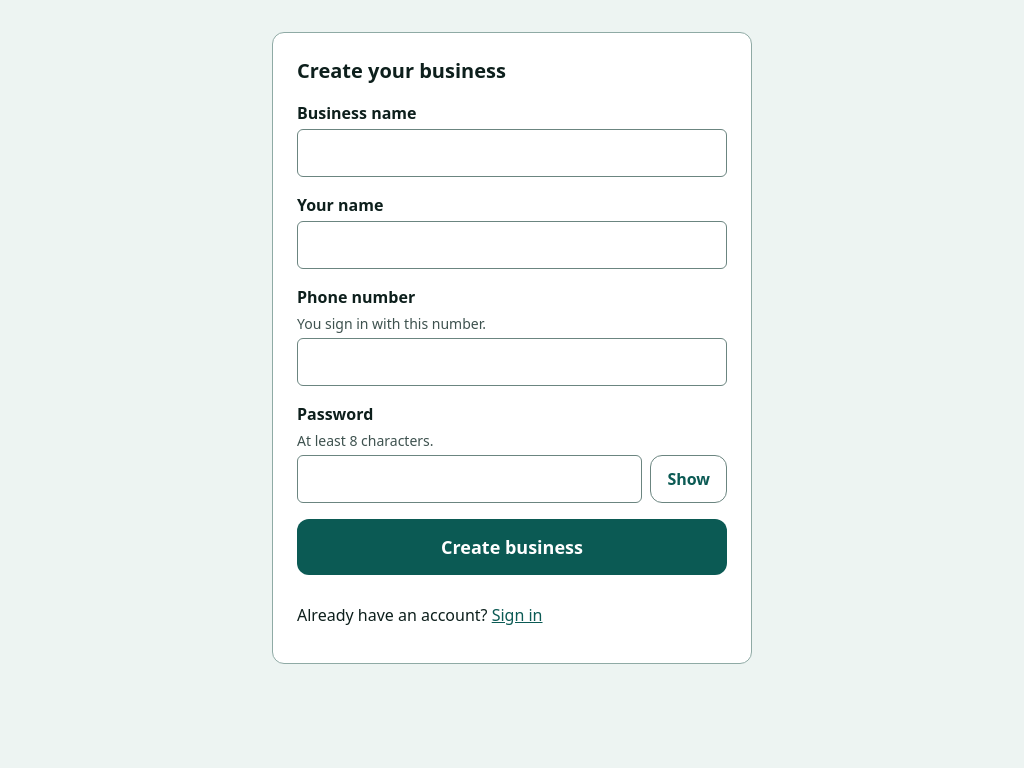
SignUpPage (M1, US1.1) › shows the button as busy while saving, sends one request, then opens the Setup home
Check: the heading "Create your business" is shown, box [297, 57, 506, 84]
Type "Haque Traders" into the field labelled "Business name" at (512, 153), box [297, 129, 727, 177]
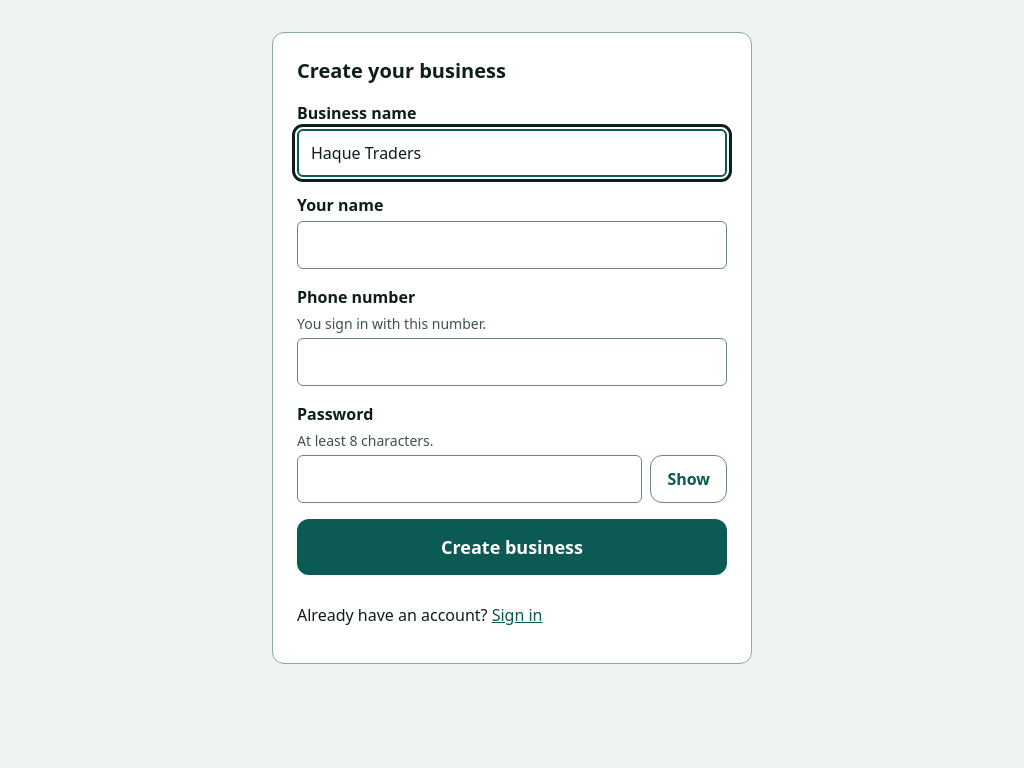
Type "Abdul Haque" into the field labelled "Your name" at (512, 245), box [297, 221, 727, 269]
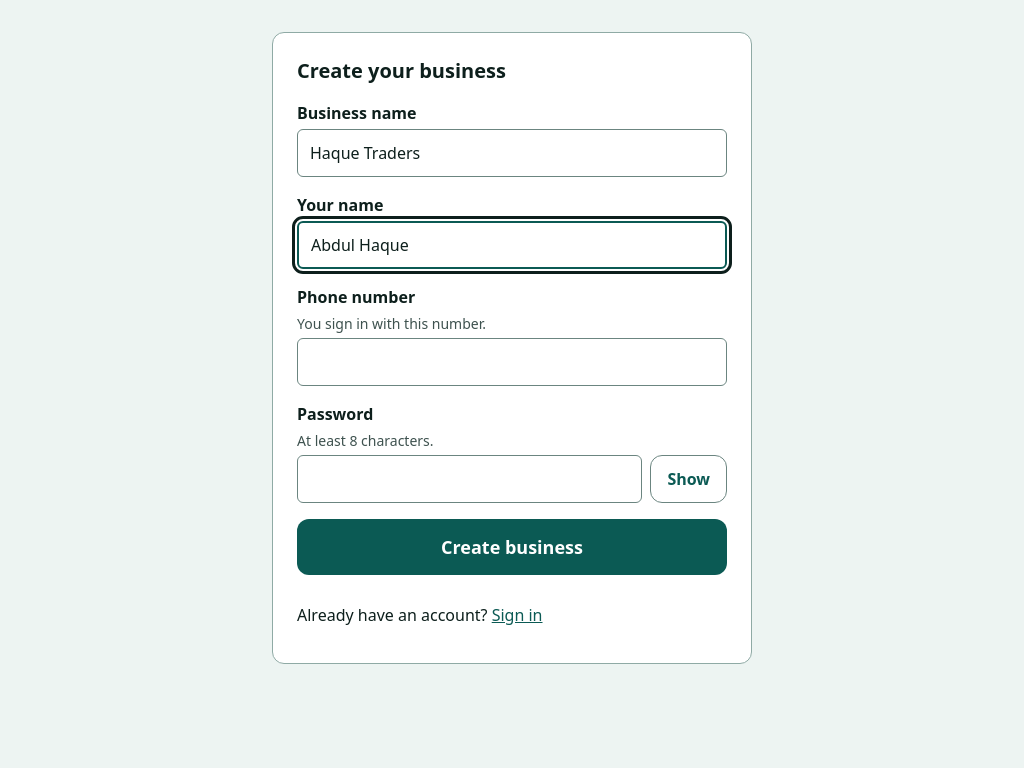
Type "01711 000-001" into the field labelled "Phone number" at (512, 362), box [297, 338, 727, 386]
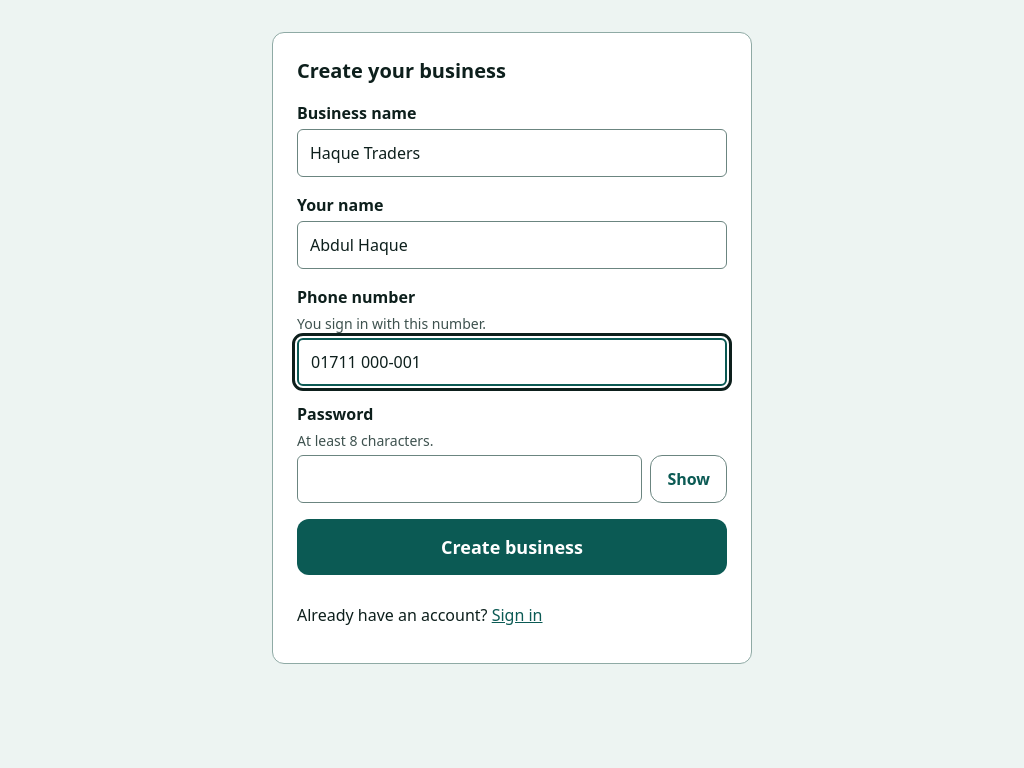
Type "correct horse" into the password field with test id "signup-password-input" at (470, 479), box [297, 455, 642, 503]
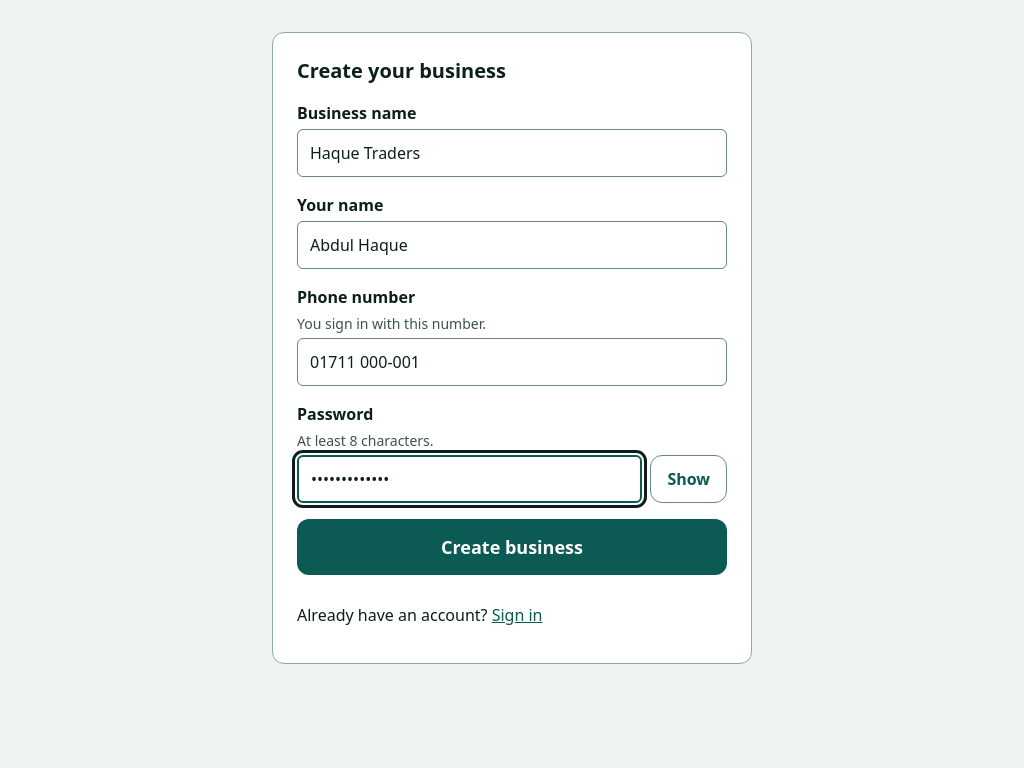
Click the button with test id "signup-submit-button" at (512, 547), box [297, 519, 727, 575]
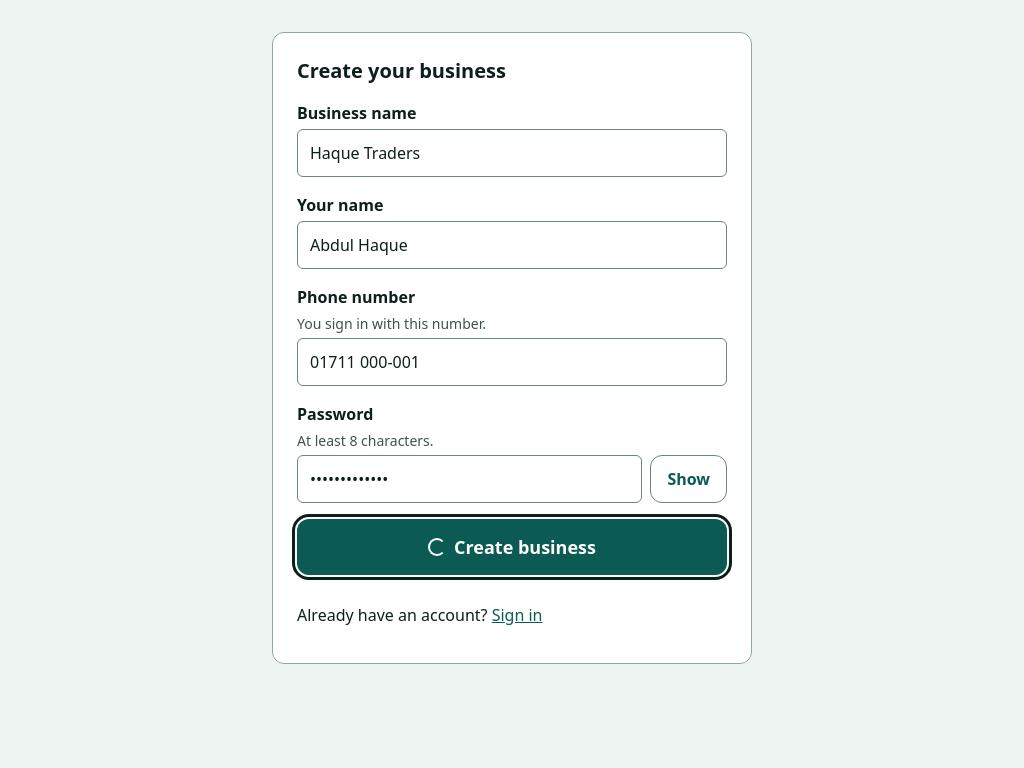
Check: the button with test id "signup-submit-button" has attribute aria-busy="true"
Click the button with test id "signup-submit-button" at (512, 547), box [297, 519, 727, 575]
(page scrolled)
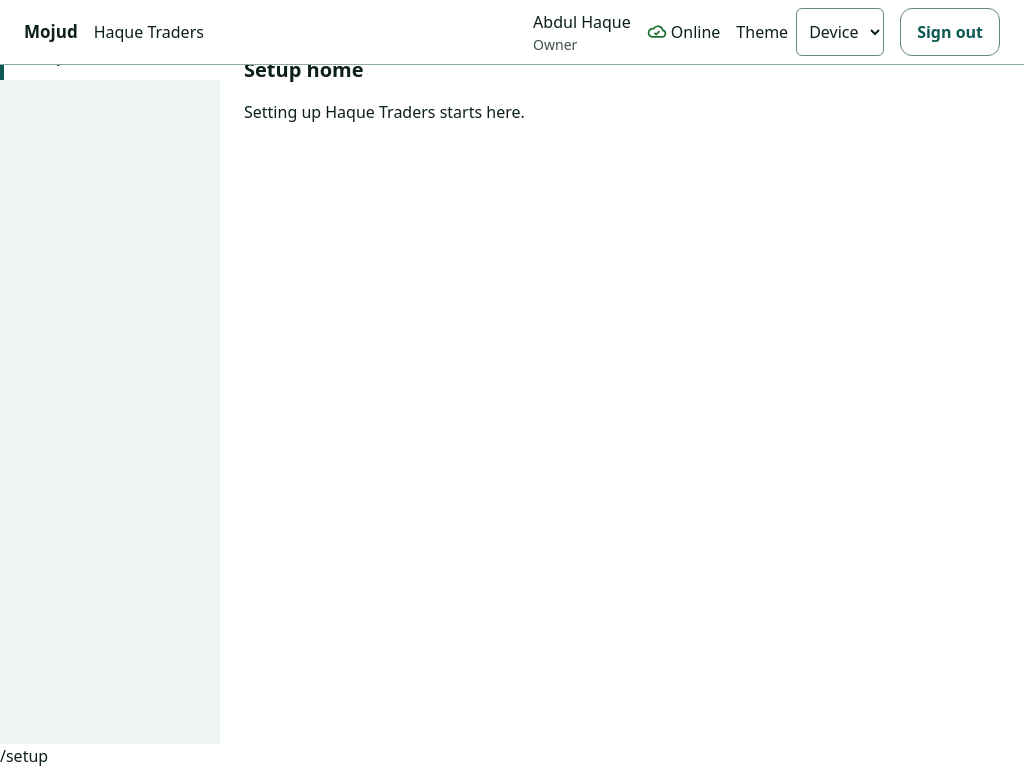
Check: the heading "Setup home" is shown, box [244, 56, 364, 83]
Check: the text "Setting up Haque Traders starts here." is shown, box [244, 101, 525, 123]
Check: the text with test id "location" reads "/setup", box [0, 745, 48, 767]
